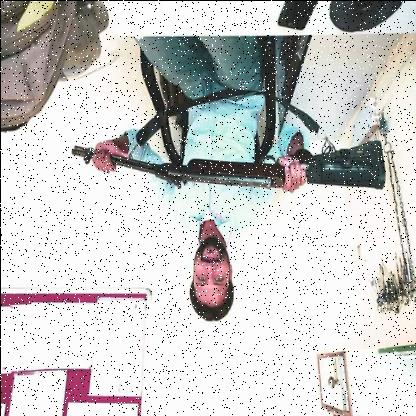rifle: (69, 136, 388, 192)
